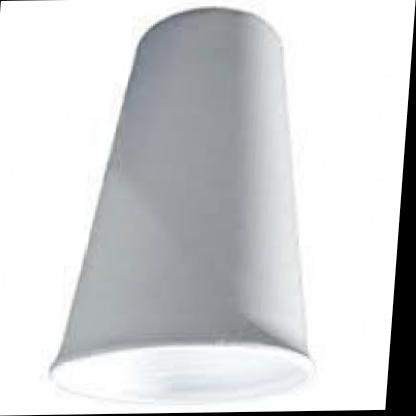Plastic: (36, 0, 362, 407)
